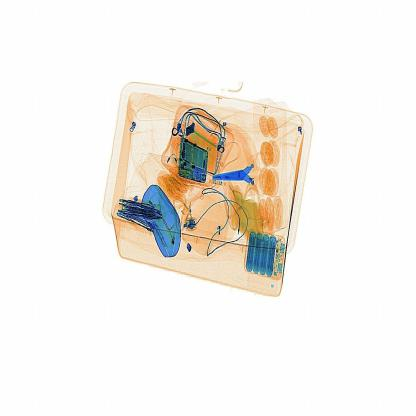gun: (210, 152, 274, 206)
